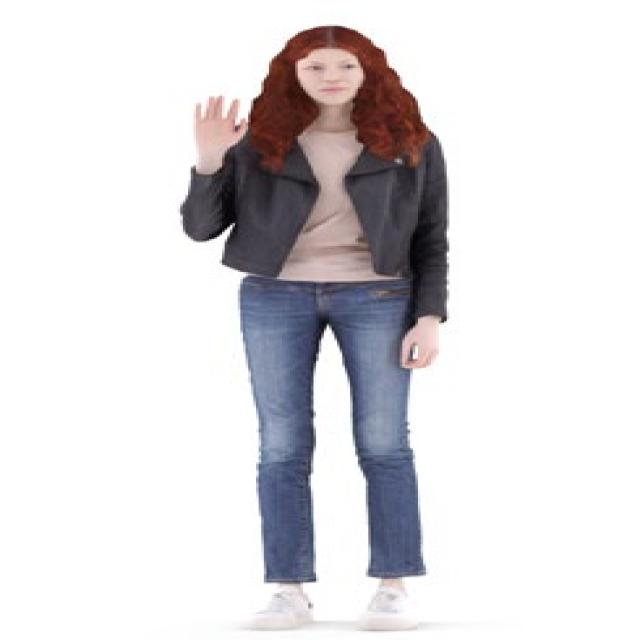standing: (170, 23, 456, 636)
